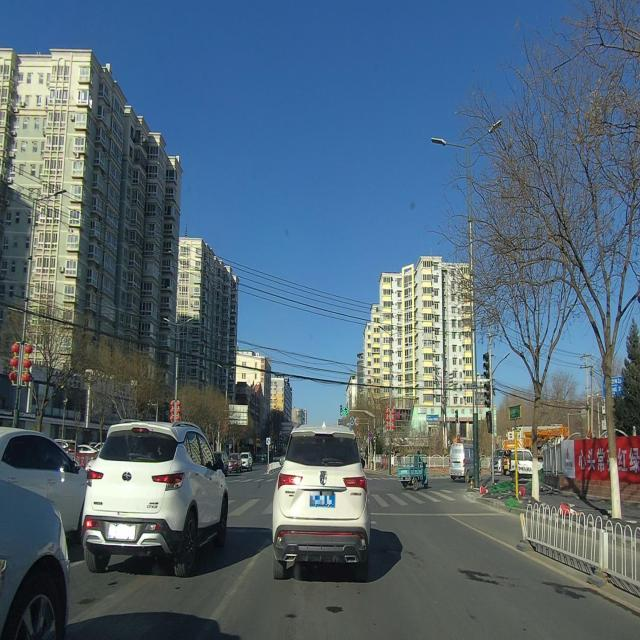Traffic Light -Green-: (340, 404, 343, 416)
Traffic Light -Off-: (483, 381, 492, 409), (482, 352, 491, 379)
